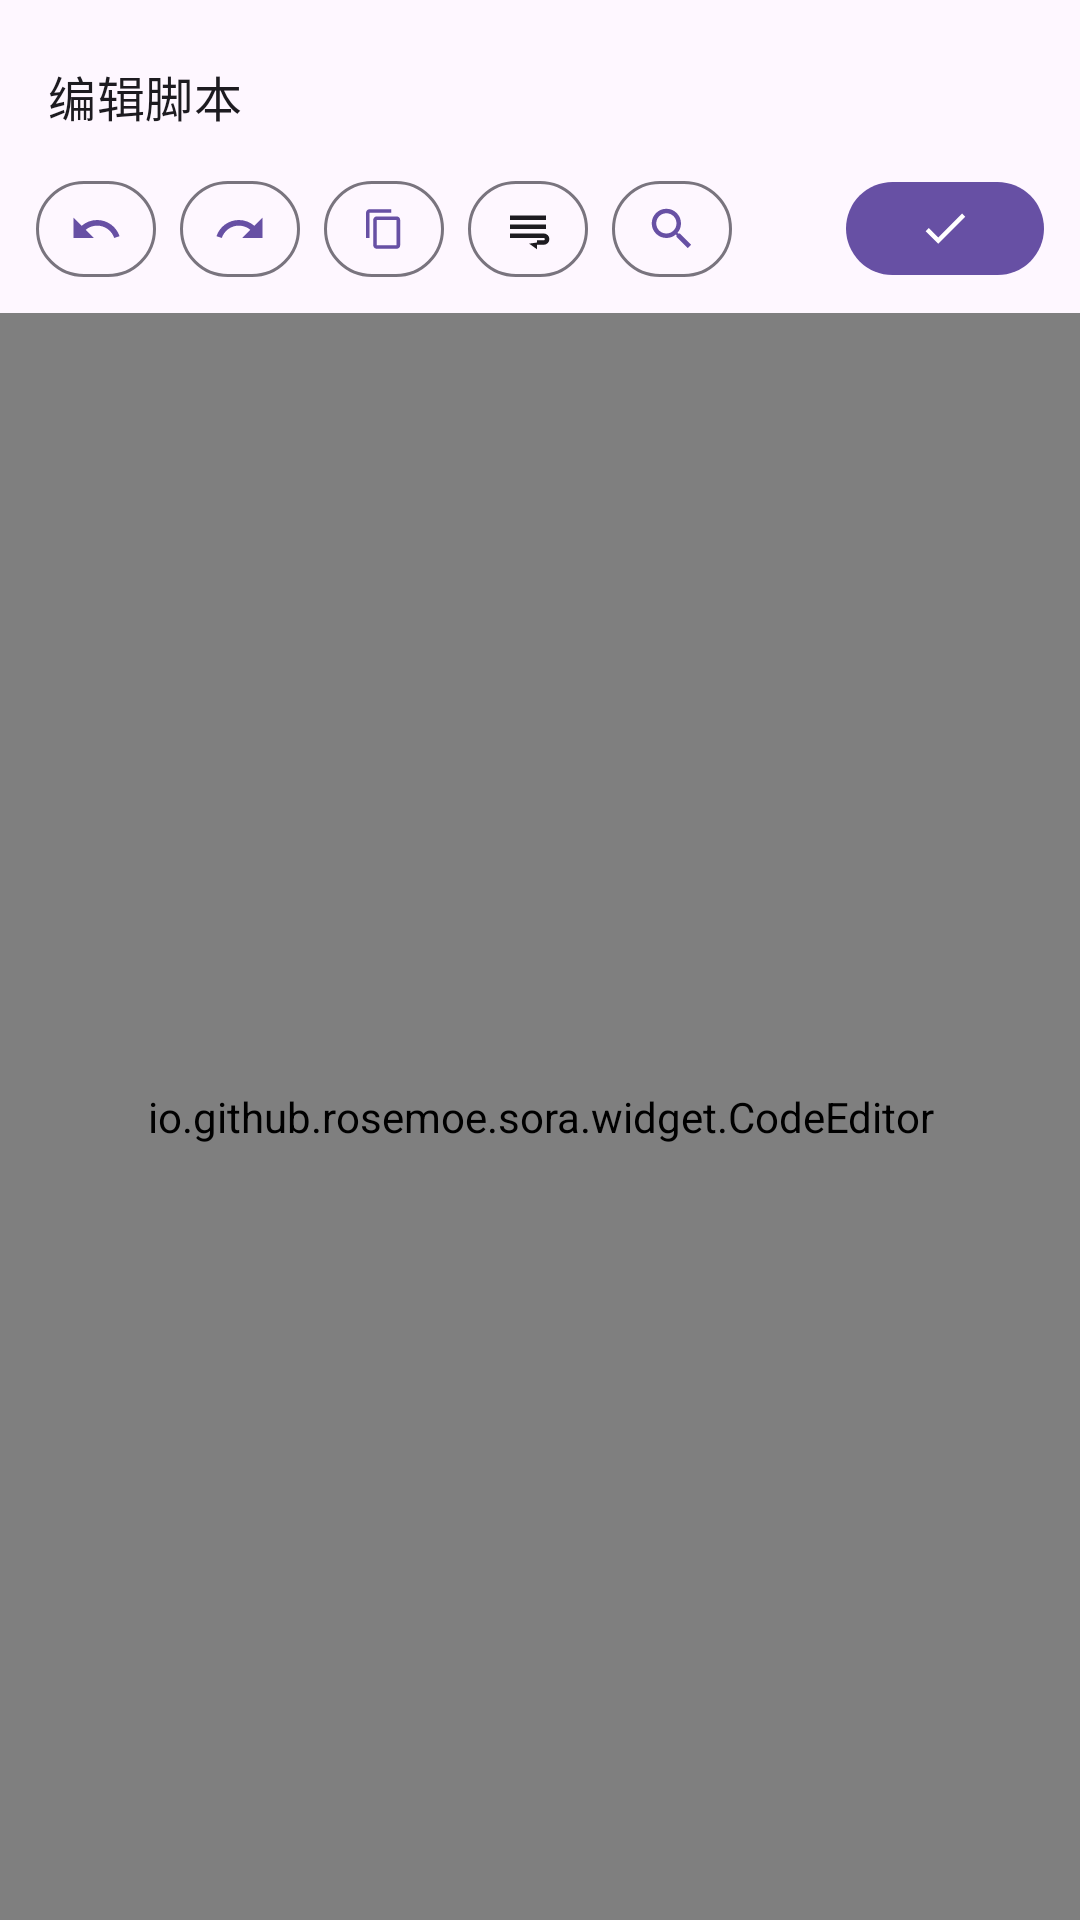

Screen size 1080 x 1920. Icon name, then its box in pixels as (x1, y1, x2, y2):
保存: (846, 182, 1044, 275)
复制全部: (324, 181, 444, 277)
搜索: (612, 181, 732, 277)
撤销: (36, 181, 156, 277)
自动换行: (468, 181, 588, 277)
重做: (180, 181, 300, 277)
